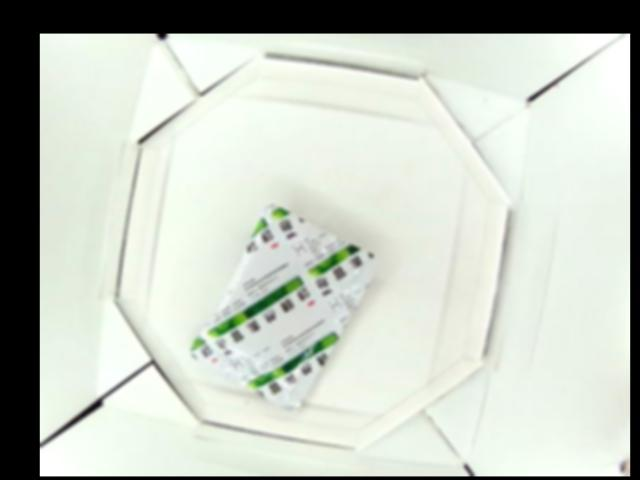Medicine: (187, 203, 374, 411)
